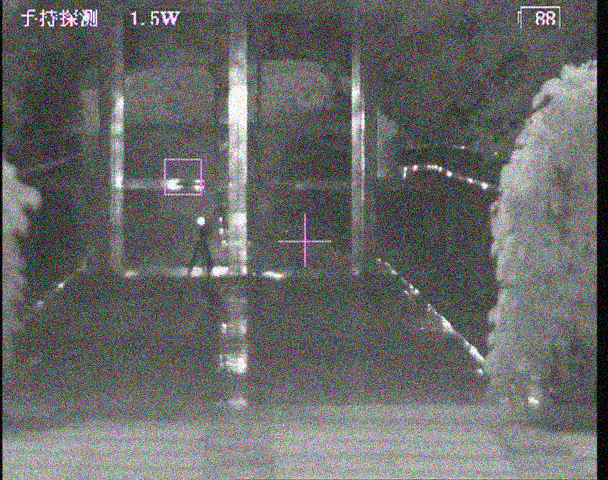my: (194, 216, 205, 226)
